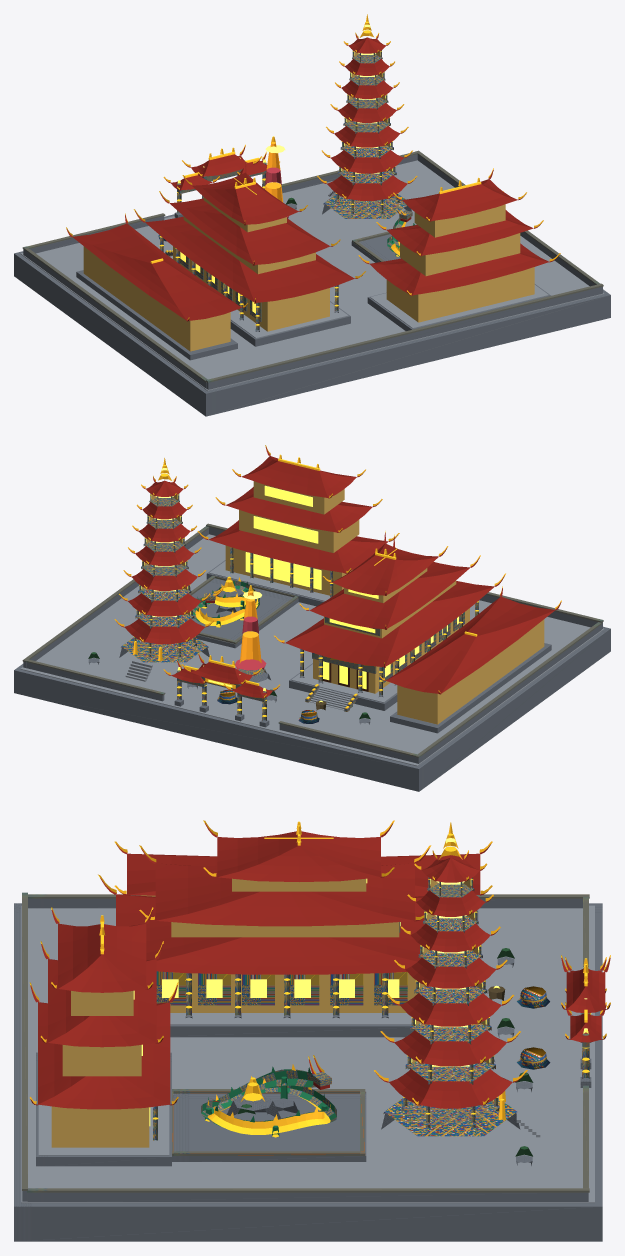
Rendered from tc_03_chua_linh_phuoc_ve_chai_complex.glb.
The picture shows the model from 3 angles, top to bottom: view 1: azimuth 30°, elevation 25°; view 2: azimuth 150°, elevation 25°; view 3: azimuth 270°, elevation 25°; orthographic projection. The views are drawn at different scales.
Visible parts, largest first — view 1: Chanh_Dien_And_Quan_Am_Curved_Roofs, Foundation_Skirt_And_Rockery_Granite, Courtyard_Plazas_And_Mosaic_Steps, Amber_Mosaic_Sanctum_And_Stupa_Walls, Cobalt_Ceramic_Mosaic_Columns_And_Dragon, Linh_Thap_7Tier_Hexagonal_Roofs, Gilded_Dao_Blades_Spire_And_Buddha_Statues, Night_2700K_Lanterns_And_Tower_Windows; view 2: Chanh_Dien_And_Quan_Am_Curved_Roofs, Foundation_Skirt_And_Rockery_Granite, Courtyard_Plazas_And_Mosaic_Steps, Cobalt_Ceramic_Mosaic_Columns_And_Dragon, Amber_Mosaic_Sanctum_And_Stupa_Walls, Linh_Thap_7Tier_Hexagonal_Roofs, Night_2700K_Lanterns_And_Tower_Windows, Gilded_Dao_Blades_Spire_And_Buddha_Statues, Quan_The_Am_600k_Immortal_Flower_Statue_18m, Immortal_Flower_Lotus_Pedestal_And_Robes; view 3: Courtyard_Plazas_And_Mosaic_Steps, Chanh_Dien_And_Quan_Am_Curved_Roofs, Foundation_Skirt_And_Rockery_Granite, Cobalt_Ceramic_Mosaic_Columns_And_Dragon, Amber_Mosaic_Sanctum_And_Stupa_Walls, Linh_Thap_7Tier_Hexagonal_Roofs, Gilded_Dao_Blades_Spire_And_Buddha_Statues, Night_2700K_Lanterns_And_Tower_Windows, Emerald_Bottle_Glass_Dragon_And_Reliefs, Courtyard_Bonsai_Pots_And_Rockery_Pines.
Part boxes in pixels (box(x1,y1,x2,y2)): Chanh_Dien_And_Quan_Am_Curved_Roofs: box(66, 146, 558, 321); Foundation_Skirt_And_Rockery_Granite: box(14, 154, 610, 416); Courtyard_Plazas_And_Mosaic_Steps: box(20, 160, 604, 390); Amber_Mosaic_Sanctum_And_Stupa_Walls: box(83, 51, 534, 351); Cobalt_Ceramic_Mosaic_Columns_And_Dragon: box(22, 50, 603, 382); Linh_Thap_7Tier_Hexagonal_Roofs: box(318, 34, 415, 200); Gilded_Dao_Blades_Spire_And_Buddha_Statues: box(66, 14, 560, 325); Night_2700K_Lanterns_And_Tower_Windows: box(177, 24, 392, 313); Chanh_Dien_And_Quan_Am_Curved_Roofs: box(165, 447, 561, 698); Foundation_Skirt_And_Rockery_Granite: box(14, 527, 610, 791); Courtyard_Plazas_And_Mosaic_Steps: box(20, 534, 604, 766); Cobalt_Ceramic_Mosaic_Columns_And_Dragon: box(22, 493, 603, 757); Amber_Mosaic_Sanctum_And_Stupa_Walls: box(139, 481, 544, 724); Linh_Thap_7Tier_Hexagonal_Roofs: box(116, 477, 213, 644); Night_2700K_Lanterns_And_Tower_Windows: box(139, 468, 458, 702); Gilded_Dao_Blades_Spire_And_Buddha_Statues: box(114, 445, 561, 716); Quan_The_Am_600k_Immortal_Flower_Statue_18m: box(239, 591, 261, 663); Immortal_Flower_Lotus_Pedestal_And_Robes: box(235, 616, 266, 670); Courtyard_Plazas_And_Mosaic_Steps: box(21, 905, 594, 1203); Chanh_Dien_And_Quan_Am_Curved_Roofs: box(30, 823, 610, 1109); Foundation_Skirt_And_Rockery_Granite: box(14, 898, 602, 1241); Cobalt_Ceramic_Mosaic_Columns_And_Dragon: box(22, 877, 590, 1192); Amber_Mosaic_Sanctum_And_Stupa_Walls: box(51, 878, 489, 1147); Linh_Thap_7Tier_Hexagonal_Roofs: box(375, 852, 525, 1108); Gilded_Dao_Blades_Spire_And_Buddha_Statues: box(29, 820, 610, 1137); Night_2700K_Lanterns_And_Tower_Windows: box(133, 838, 591, 1126); Emerald_Bottle_Glass_Dragon_And_Reliefs: box(201, 1066, 336, 1136); Courtyard_Bonsai_Pots_And_Rockery_Pines: box(238, 948, 533, 1156).
Bounding box in the file's own units: 78 × 41.2 × 64.92.
14 materials, 2 textured.
